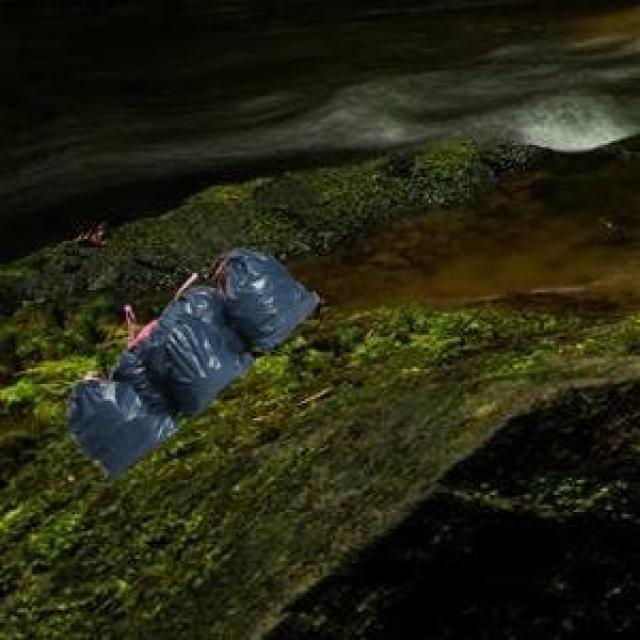Vinyl: (69, 248, 319, 476)
